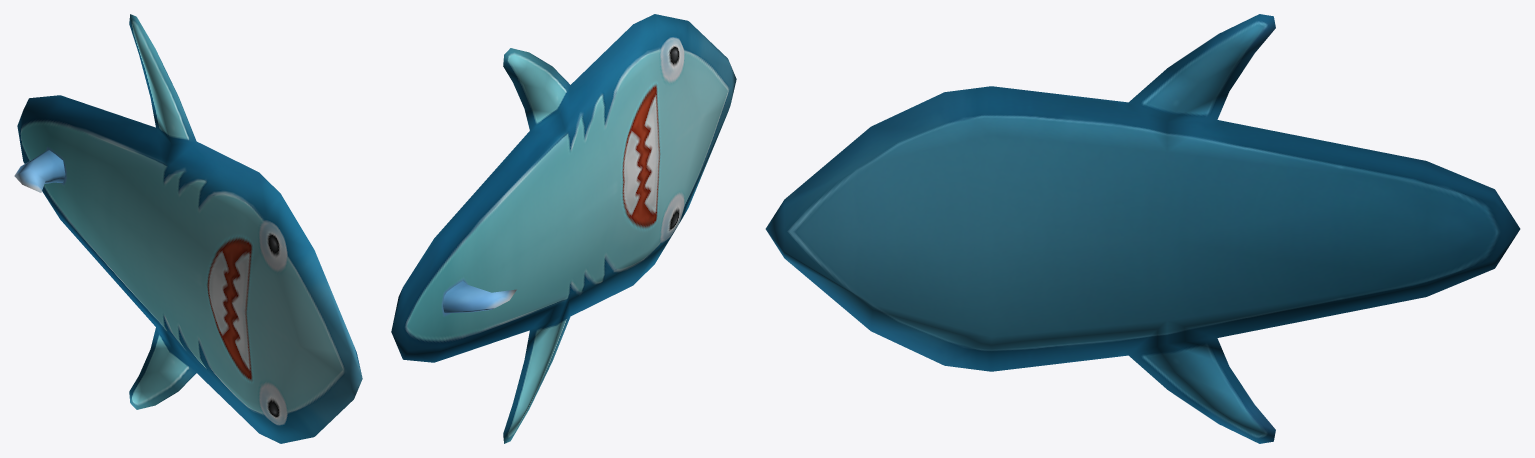
Rendered from pet_80_06_handle.FBX.
3 renders of one model, left to right at view 1: azimuth 30°, elevation 25°; view 2: azimuth 150°, elevation 25°; view 3: azimuth 270°, elevation 25°, orthographic. The views are drawn at different scales.
Parts seen in each view (by area): view 1: pet_80_06_handle; view 2: pet_80_06_handle; view 3: pet_80_06_handle.
Boxes of the visible parts, <box> form: pet_80_06_handle: <box>14,14,362,443</box>; pet_80_06_handle: <box>391,14,736,443</box>; pet_80_06_handle: <box>765,14,1520,443</box>.
Size of the model in its own units: 12.94 by 61.84 by 98.41.
